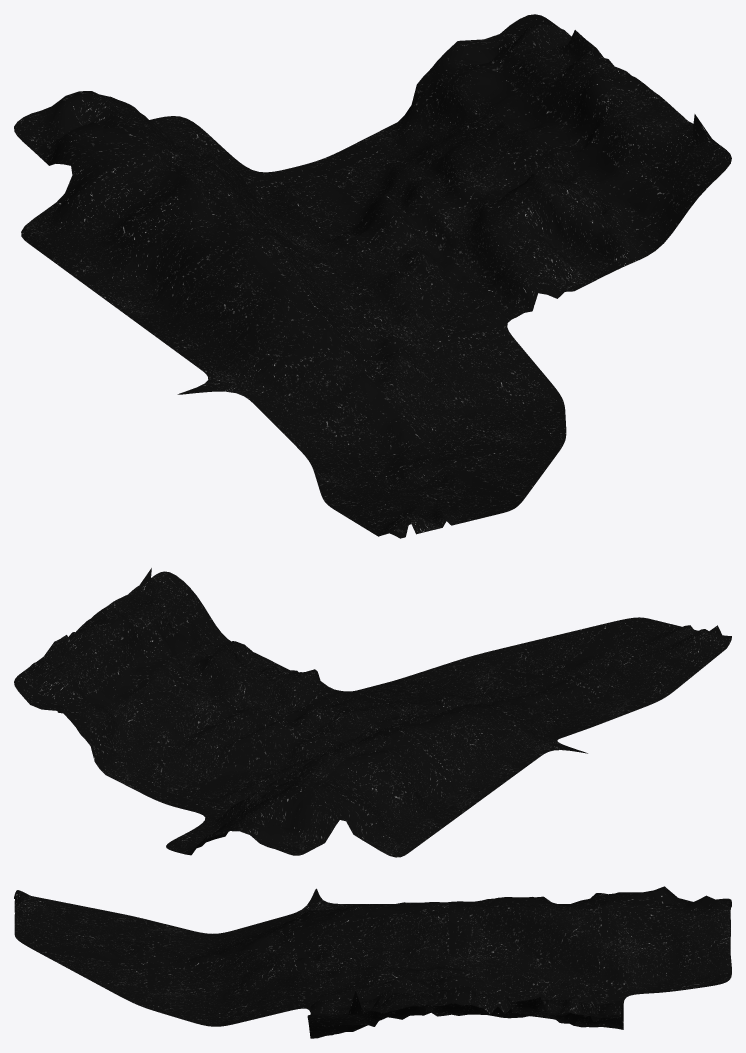
The model's file is caveTop.fbx.
The picture shows the model from 3 angles, top to bottom: view 1: azimuth 30°, elevation 25°; view 2: azimuth 150°, elevation 25°; view 3: azimuth 270°, elevation 25°; orthographic projection. The views are drawn at different scales.
Visible parts, largest first — view 1: Plane; view 2: Plane; view 3: Plane.
Boxes of the visible parts, left/top/right/bottom form: Plane: left=14, top=14, right=731, bottom=538; Plane: left=14, top=568, right=731, bottom=857; Plane: left=14, top=886, right=731, bottom=1038.
Bounding box in the file's own units: 1100 × 302 × 1639.
